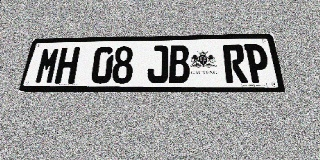0: (90, 46, 114, 84)
8: (111, 46, 134, 84)
B: (169, 45, 190, 83)
H: (54, 47, 80, 84)
J: (147, 46, 168, 83)
M: (34, 47, 61, 84)
P: (244, 44, 272, 83)
R: (222, 44, 248, 83)
